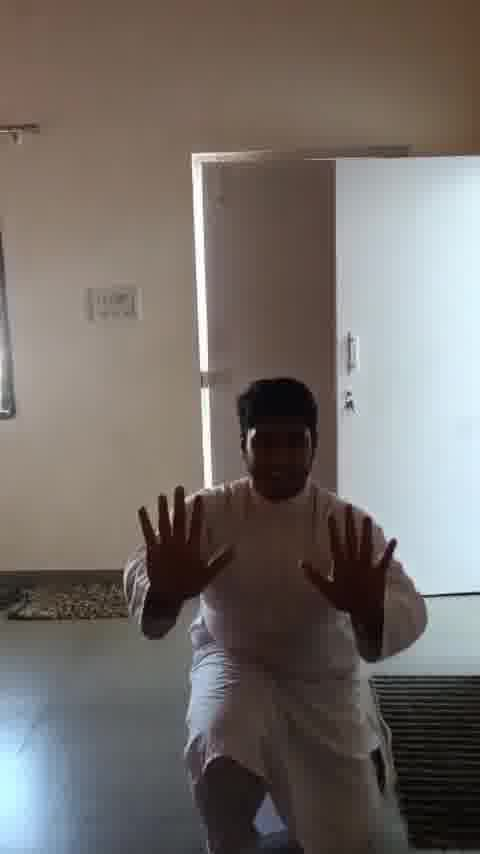duck: (99, 358, 461, 854)
